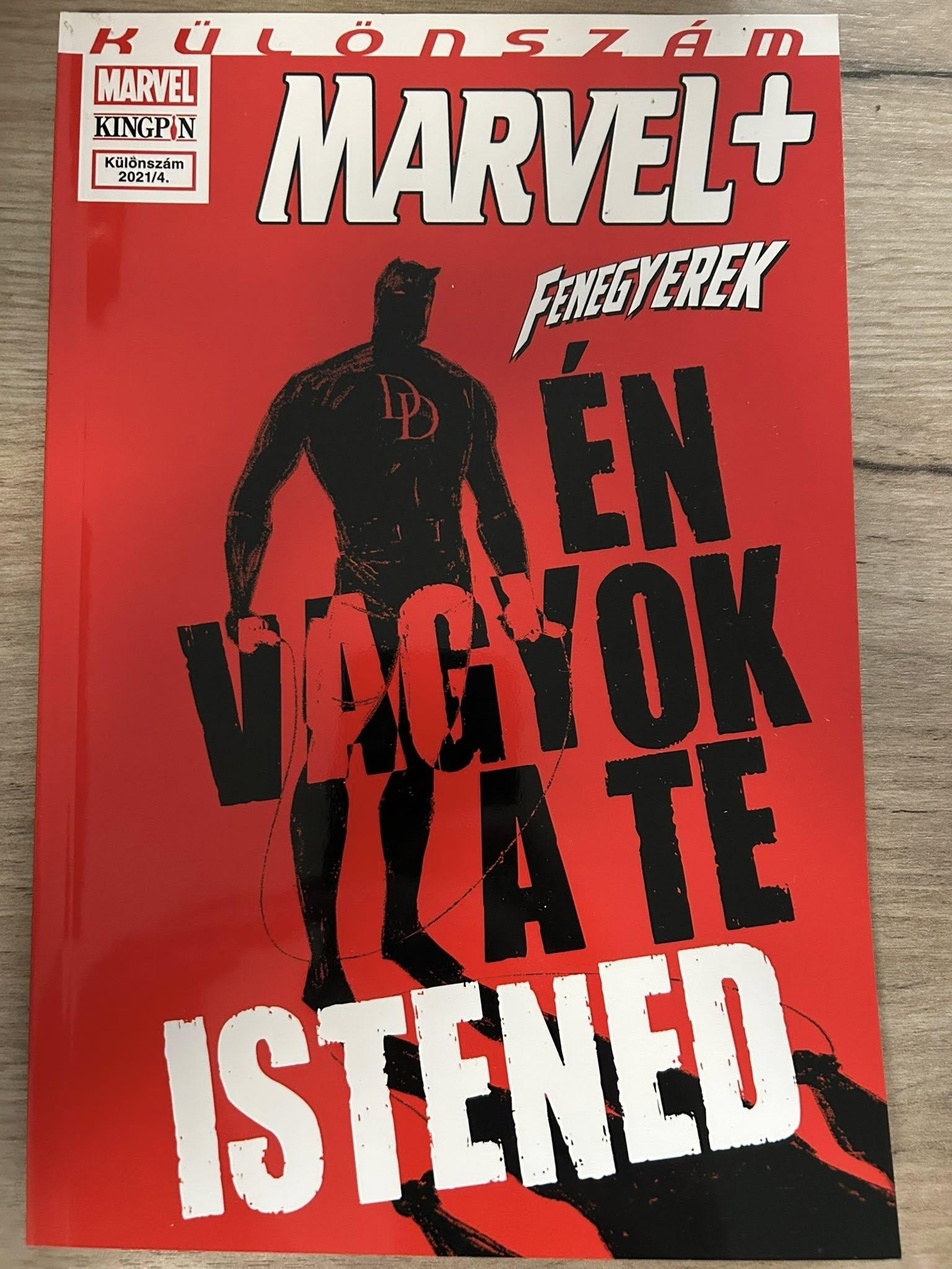comic: (28, 11, 907, 1259)
